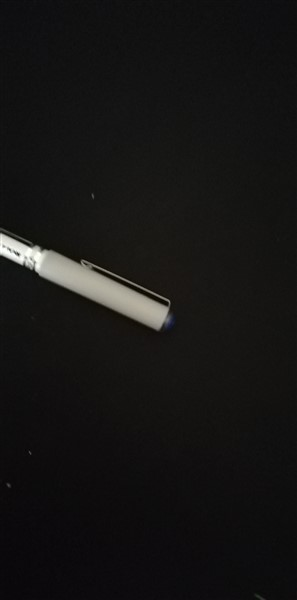pilot kalem: (1, 213, 191, 341)
